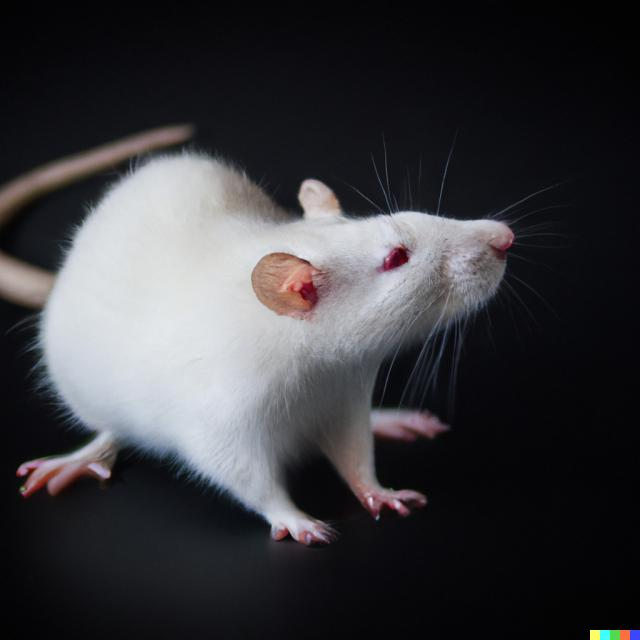rodents: (30, 132, 526, 512)
